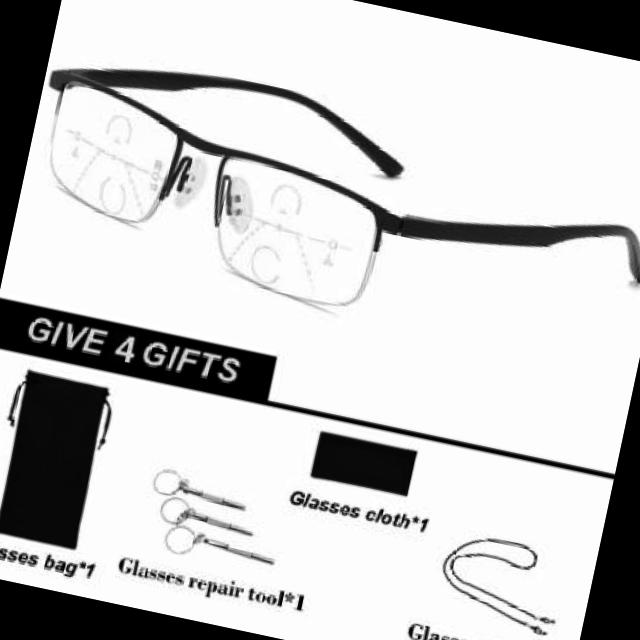glasses: (16, 40, 640, 373)
